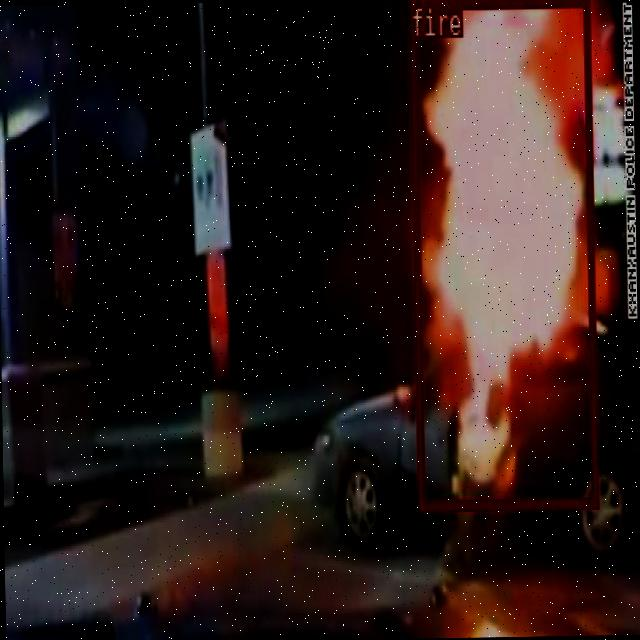fire: (408, 0, 597, 507)
